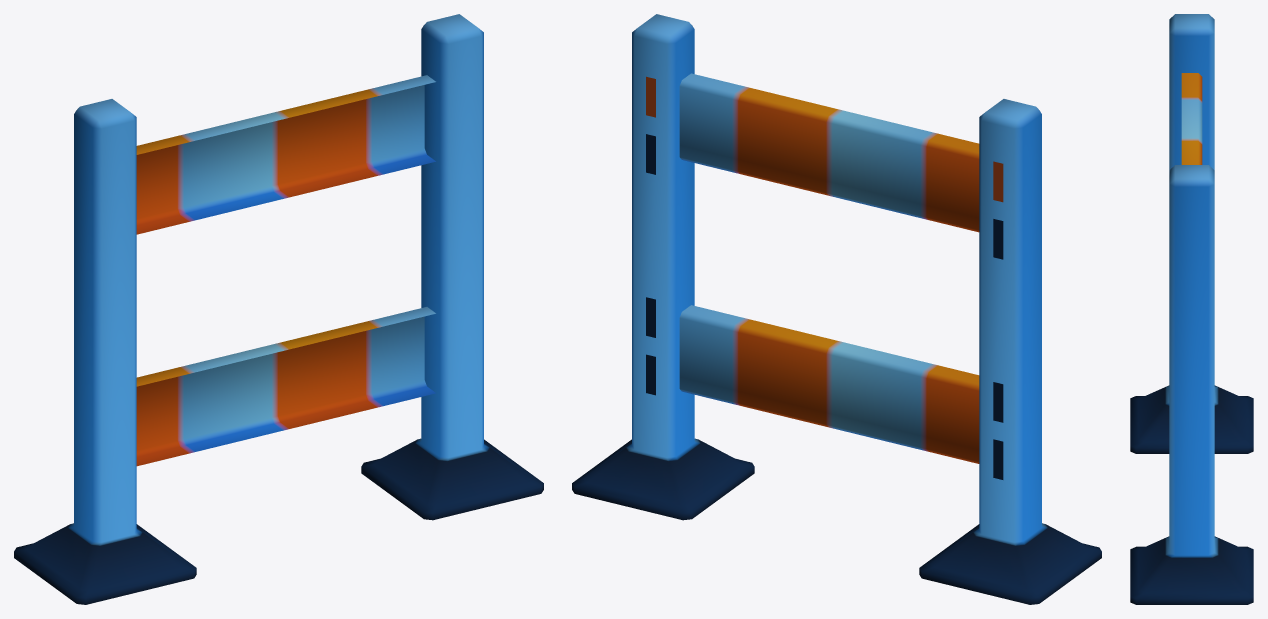
File: RoadWorksBarrier01Night.fbx
3 views of the same model, side by side, from view 1: azimuth 30°, elevation 25°; view 2: azimuth 150°, elevation 25°; view 3: azimuth 270°, elevation 25° (orthographic). The views are drawn at different scales.
Visible parts, largest first — view 1: RoadWorksBarrier01Night; view 2: RoadWorksBarrier01Night; view 3: RoadWorksBarrier01Night.
Part boxes in pixels (x1,y1,x2,y2): RoadWorksBarrier01Night: (14, 14, 543, 604); RoadWorksBarrier01Night: (572, 14, 1101, 604); RoadWorksBarrier01Night: (1130, 14, 1253, 604).
Size of the model in its own units: 166 by 155 by 42.57.
